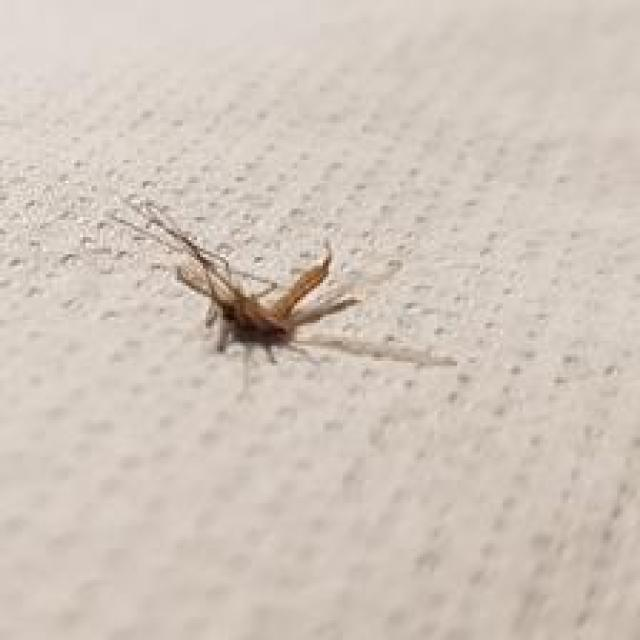Culex: (107, 200, 362, 389)
